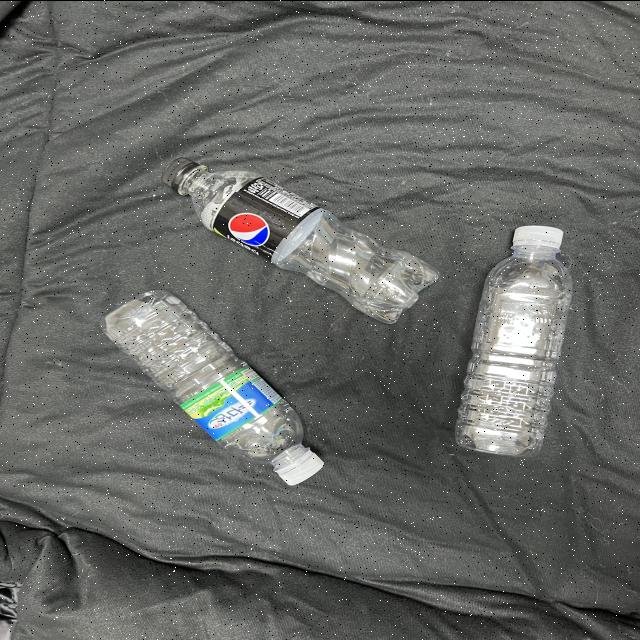plastic: (139, 132, 457, 338), (80, 272, 341, 502), (437, 213, 587, 470)
